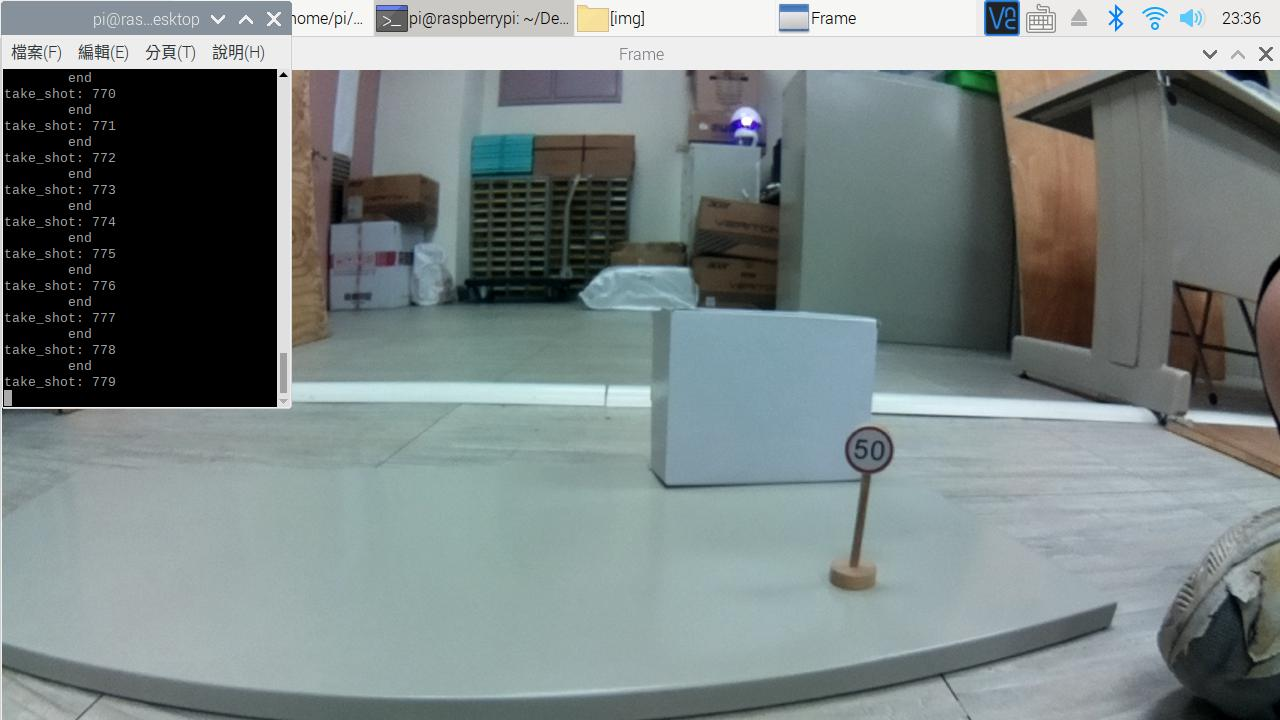Speed50: (839, 417, 922, 492)
